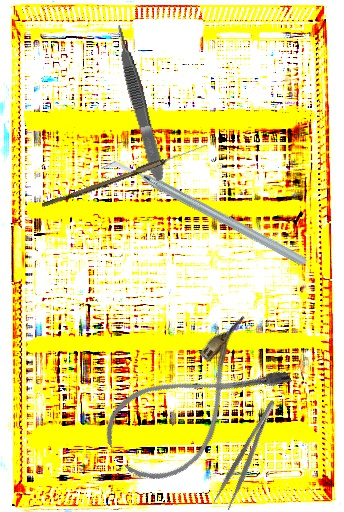Cannula: (92, 311, 297, 498)
Chopper: (98, 101, 309, 326)
Dressing Forceps: (210, 398, 287, 512)
Surgical Spoon: (41, 140, 208, 212)
Tissue Forceps: (111, 22, 168, 183)
